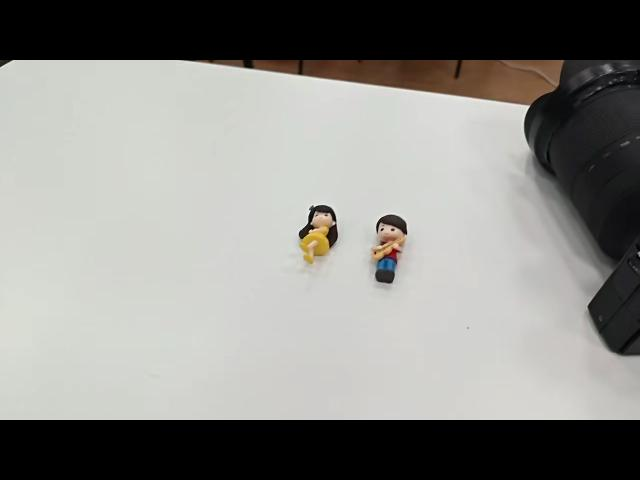man: (370, 207, 408, 286)
woman: (292, 200, 340, 266)
